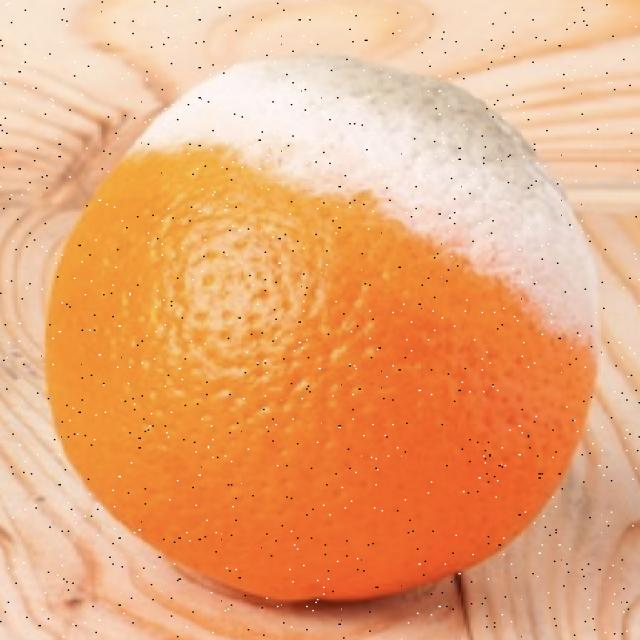sedikit_busuk: (46, 49, 596, 609)
